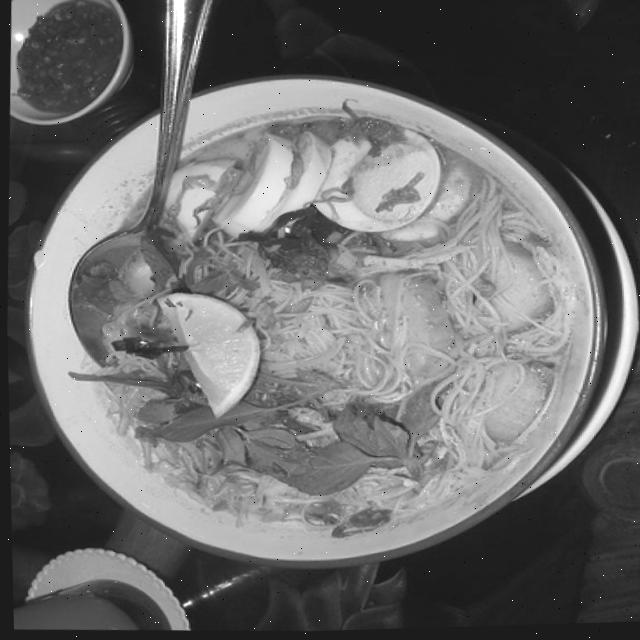面条主食: (0, 6, 609, 584)
